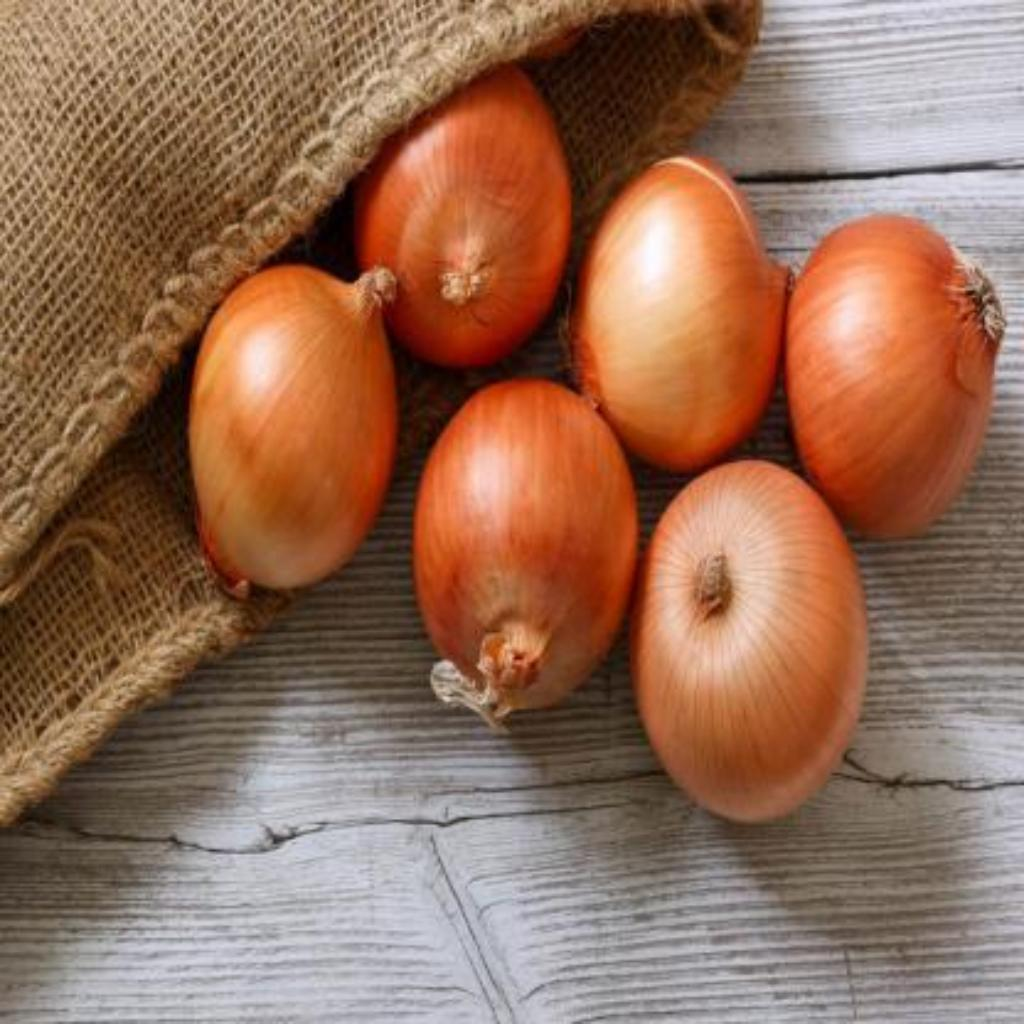Onion: (635, 463, 869, 823), (416, 379, 638, 732), (788, 214, 1009, 538), (190, 266, 399, 599), (574, 158, 790, 471), (357, 64, 574, 368)
